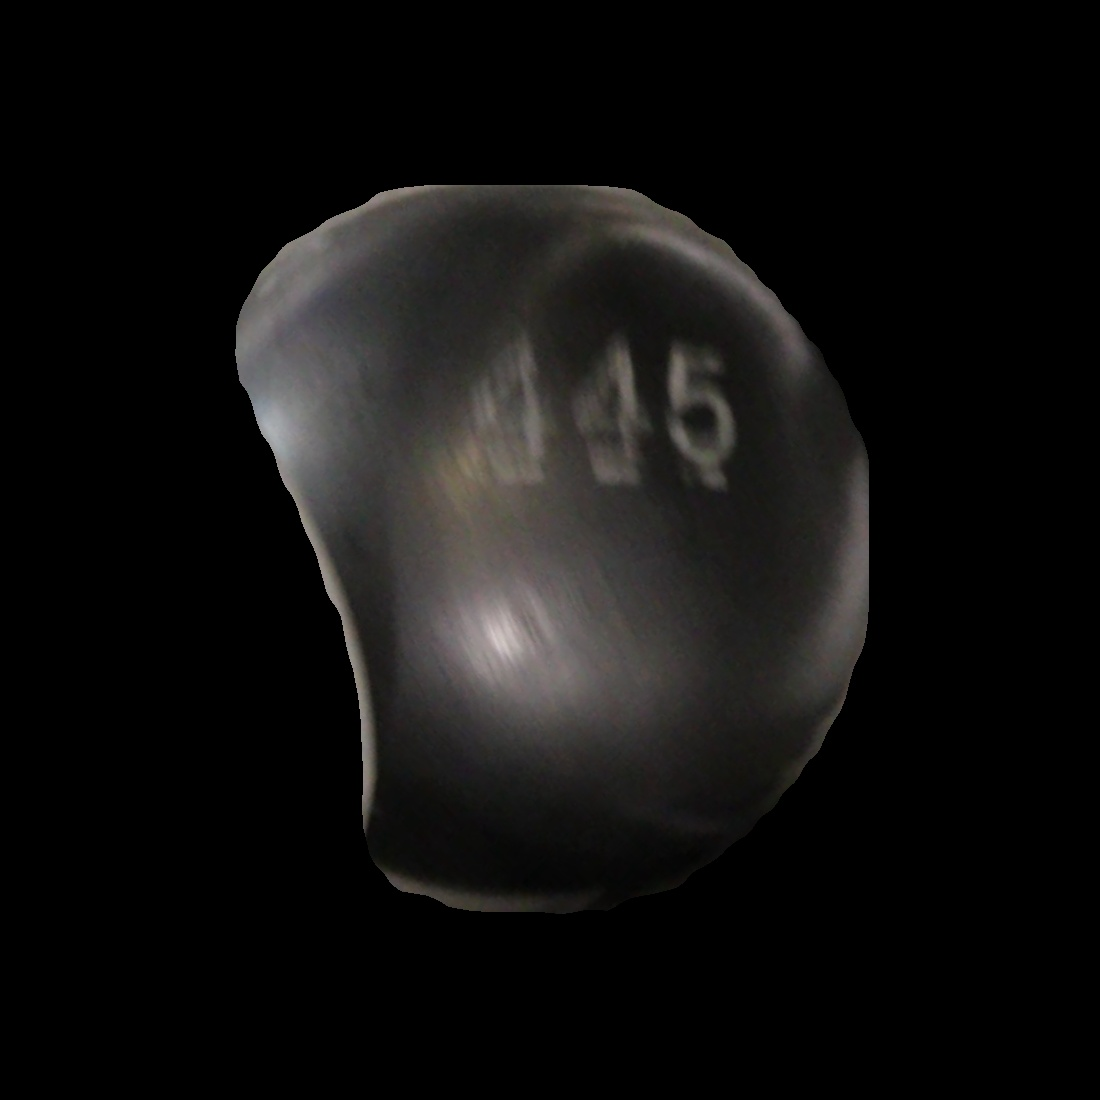digits: (461, 326, 736, 491)
